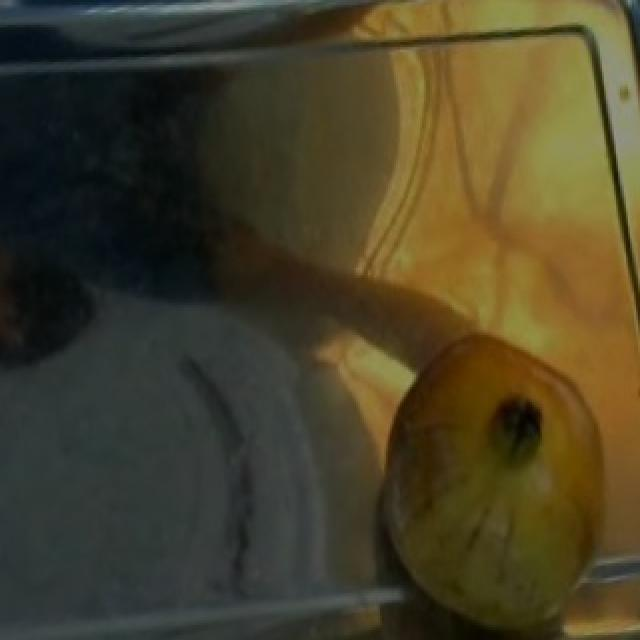fruit: (360, 298, 630, 546)
